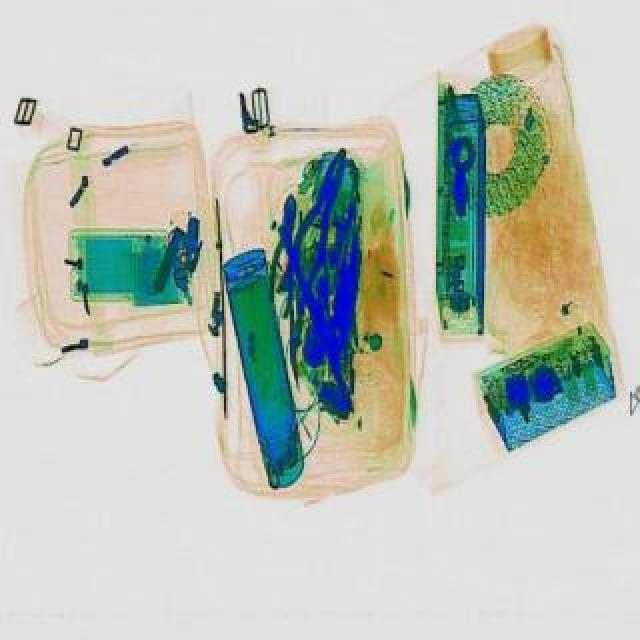wrench: (268, 144, 364, 316), (266, 198, 306, 322)
